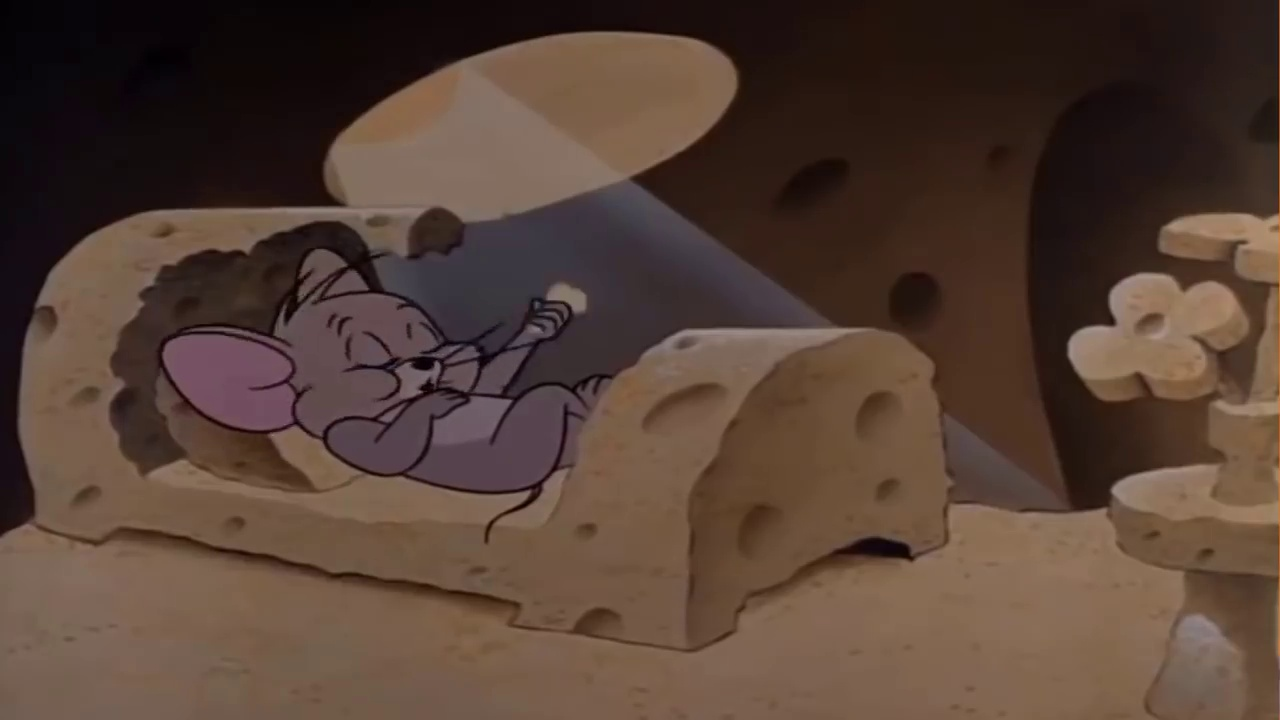face: (318, 293, 455, 408)
